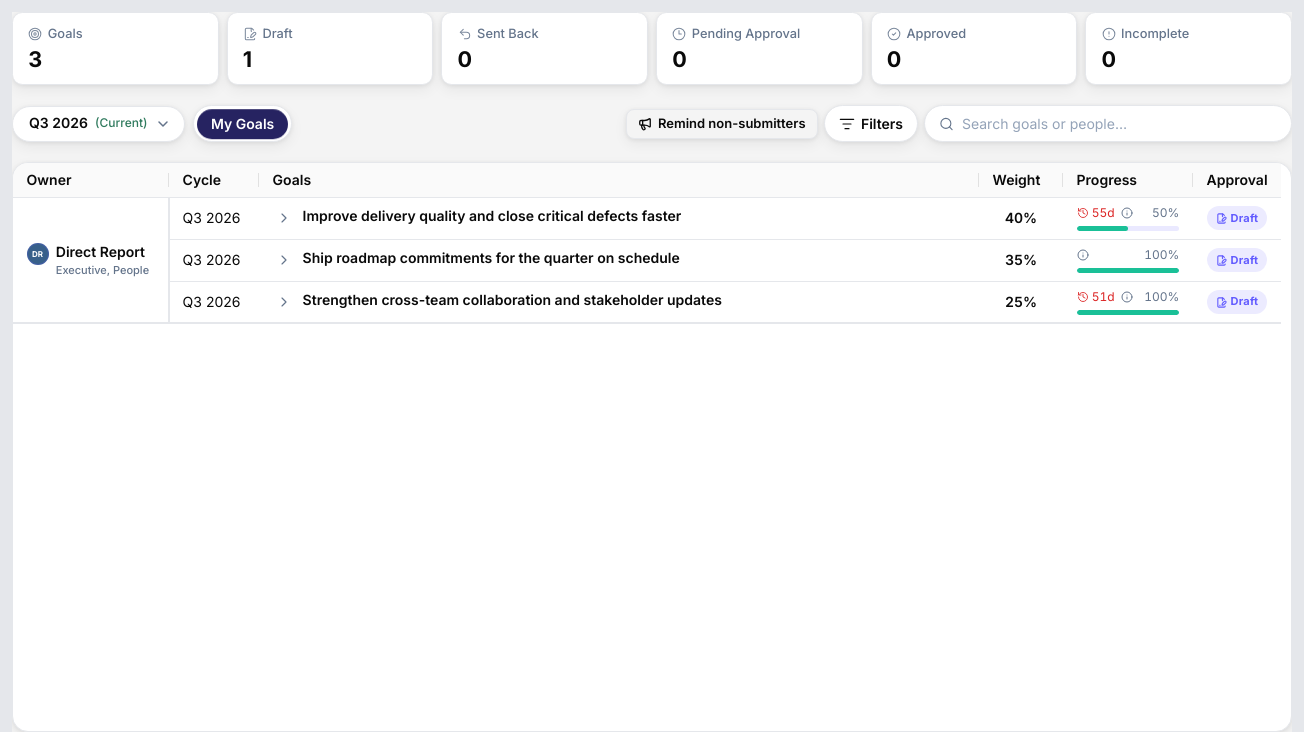
Test: Goals overview cycle eligibility › lets the viewer select more than one cycle
The width and height of the screenshot is (1304, 732).
Click the button with aria-label "Goal cycle:". click: (99, 124)
box: [12,106,185,142]
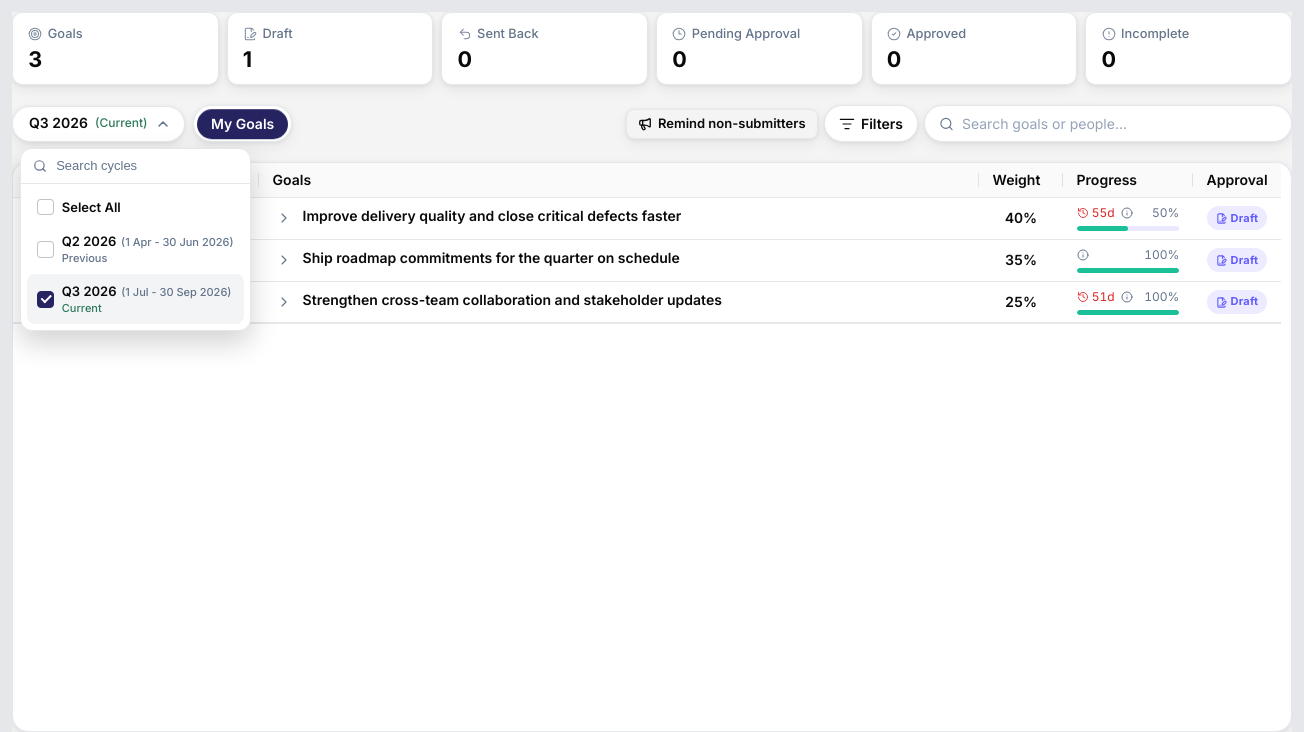
Click the option "Q2 2026 (1 Apr - 30 Jun 2026) Previous". click: (135, 249)
box: [27,224,244,274]
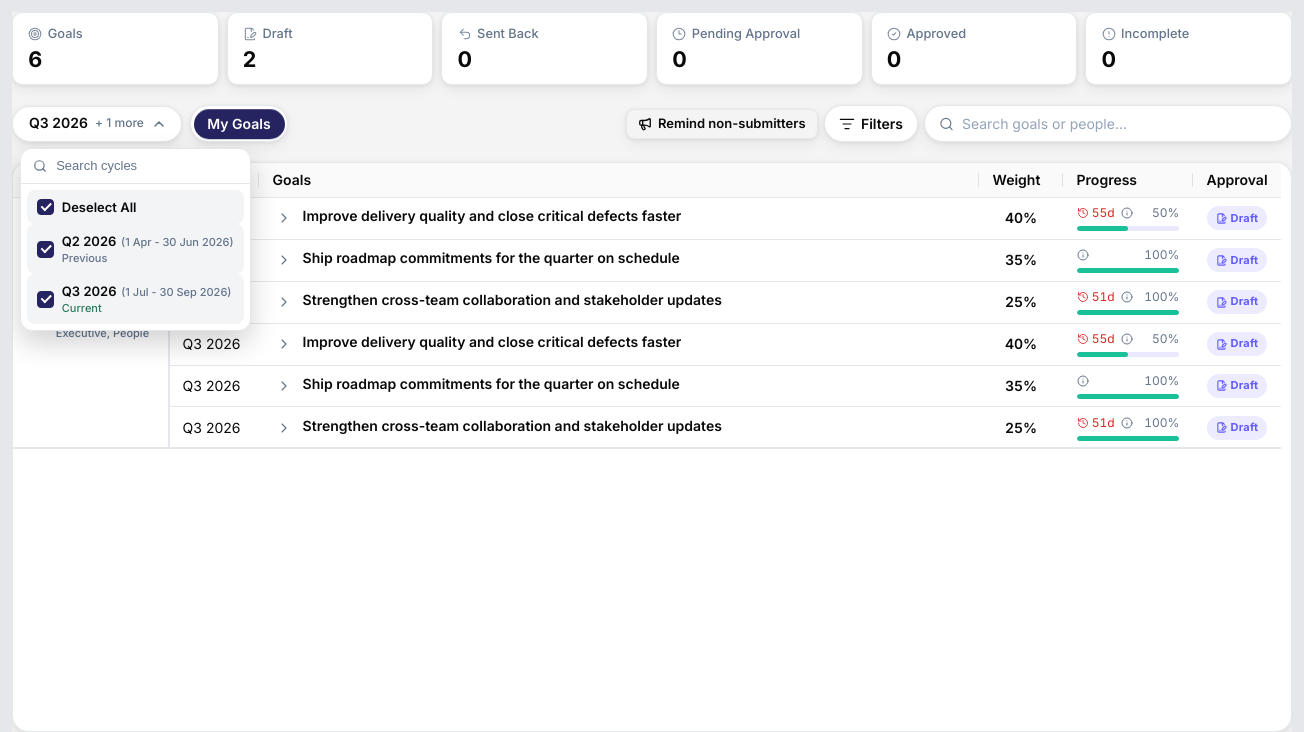
Check: the column heading "Cycle" is shown, box [169,163,259,198]
Check: the button with aria-label "and 1 more" is shown, box [12,106,182,142]
